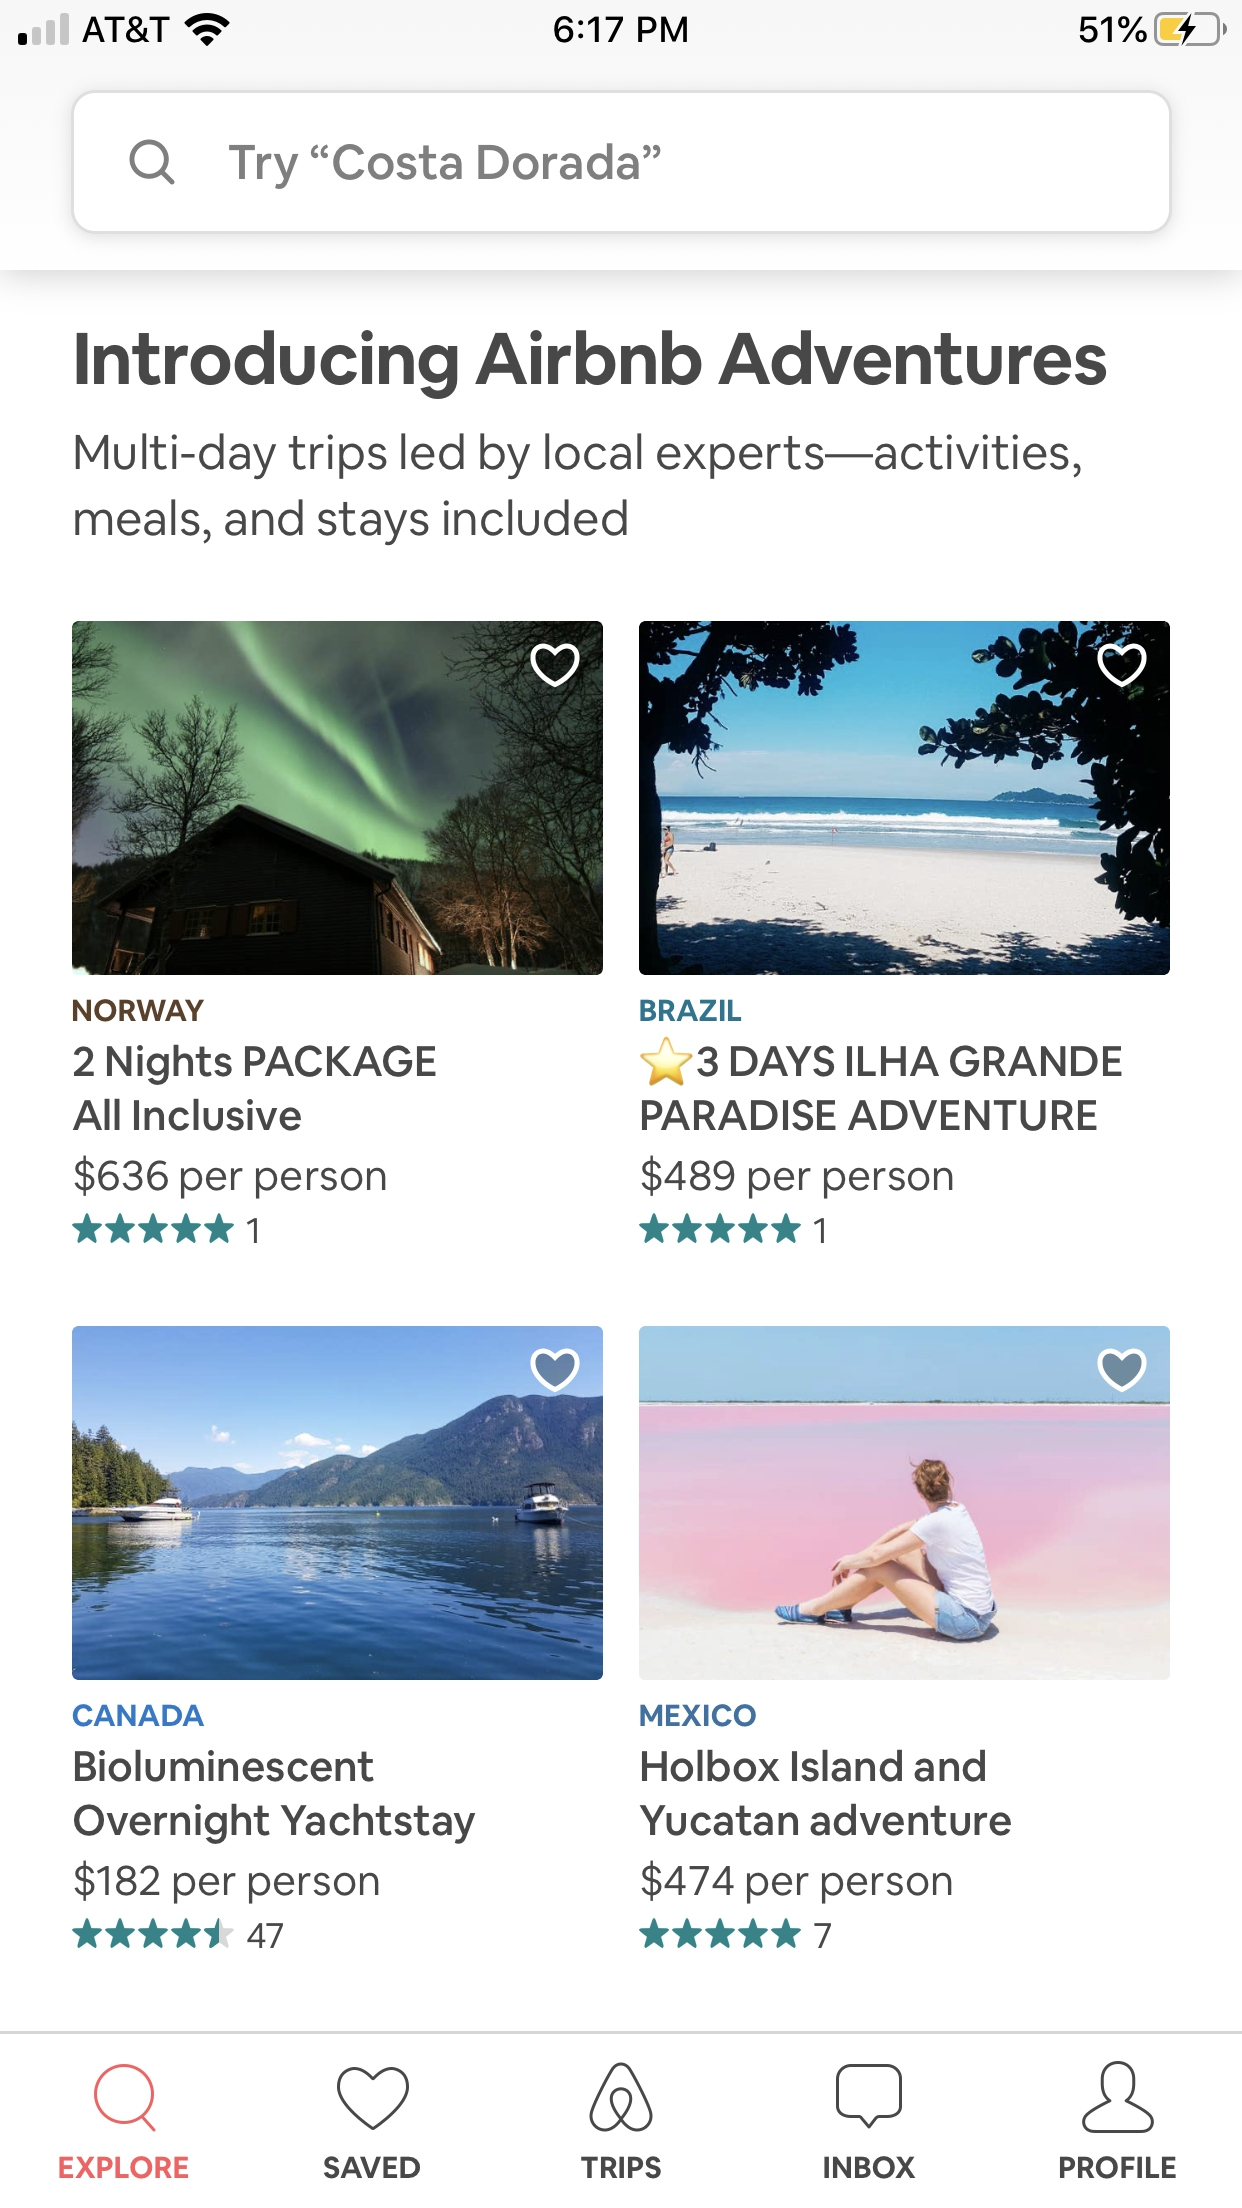EditText: (71, 91, 1172, 235)
Icon: (1081, 2059, 1156, 2134), (640, 1918, 802, 1949), (73, 1918, 235, 1949), (73, 1213, 235, 1244), (337, 2065, 409, 2131), (638, 1215, 801, 1244), (590, 2062, 654, 2132), (836, 2064, 902, 2129), (96, 2064, 158, 2134), (641, 1037, 693, 1086), (130, 140, 176, 187), (1098, 1350, 1146, 1394), (531, 1350, 579, 1394), (1098, 645, 1146, 688), (531, 645, 579, 688)
Image: (638, 622, 1171, 977), (640, 1325, 1171, 1680), (73, 622, 604, 977), (73, 1327, 604, 1680)
Text: (74, 434, 1081, 546), (77, 331, 1107, 400), (74, 1750, 476, 1846), (640, 1749, 1011, 1836), (76, 1045, 437, 1131), (229, 143, 663, 191), (641, 1099, 1096, 1131), (641, 1861, 952, 1905), (641, 1156, 952, 1200), (76, 1156, 387, 1200), (74, 1861, 379, 1905), (698, 1046, 1122, 1077), (59, 2155, 190, 2179), (74, 999, 205, 1022), (1059, 2155, 1175, 2179), (640, 1703, 757, 1727), (74, 1705, 205, 1726), (640, 999, 742, 1022), (325, 2156, 422, 2179), (823, 2156, 916, 2179), (581, 2156, 663, 2179), (247, 1921, 284, 1949), (814, 1921, 833, 1949), (814, 1218, 826, 1244), (247, 1219, 258, 1244)
UpperTaskBar: (2, 2, 1242, 49)
